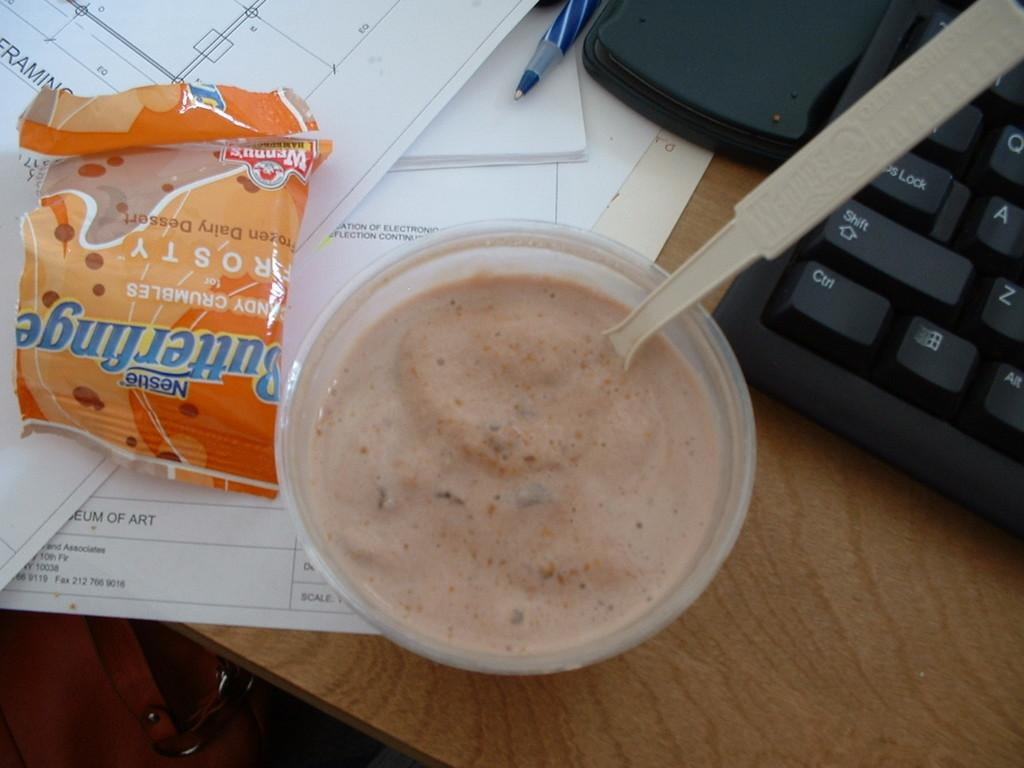Computer-keyboard: (714, 0, 1023, 549)
